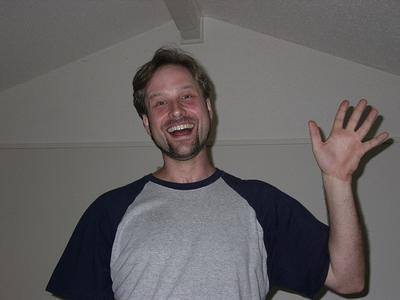person: (47, 47, 390, 300)
